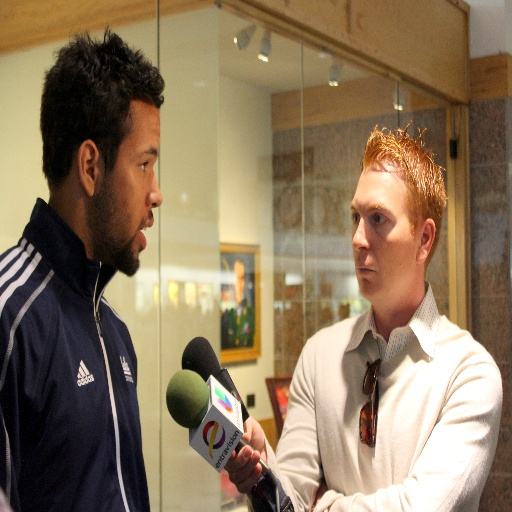hand: (224, 413, 268, 496)
